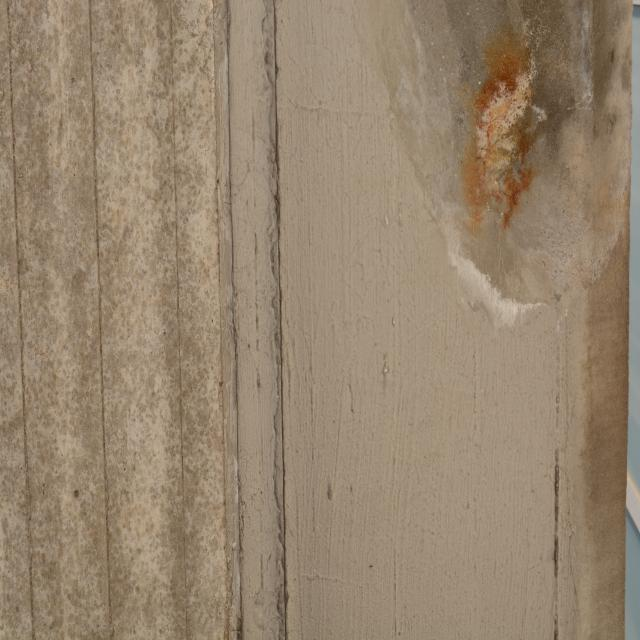corrosion: (453, 22, 549, 256)
